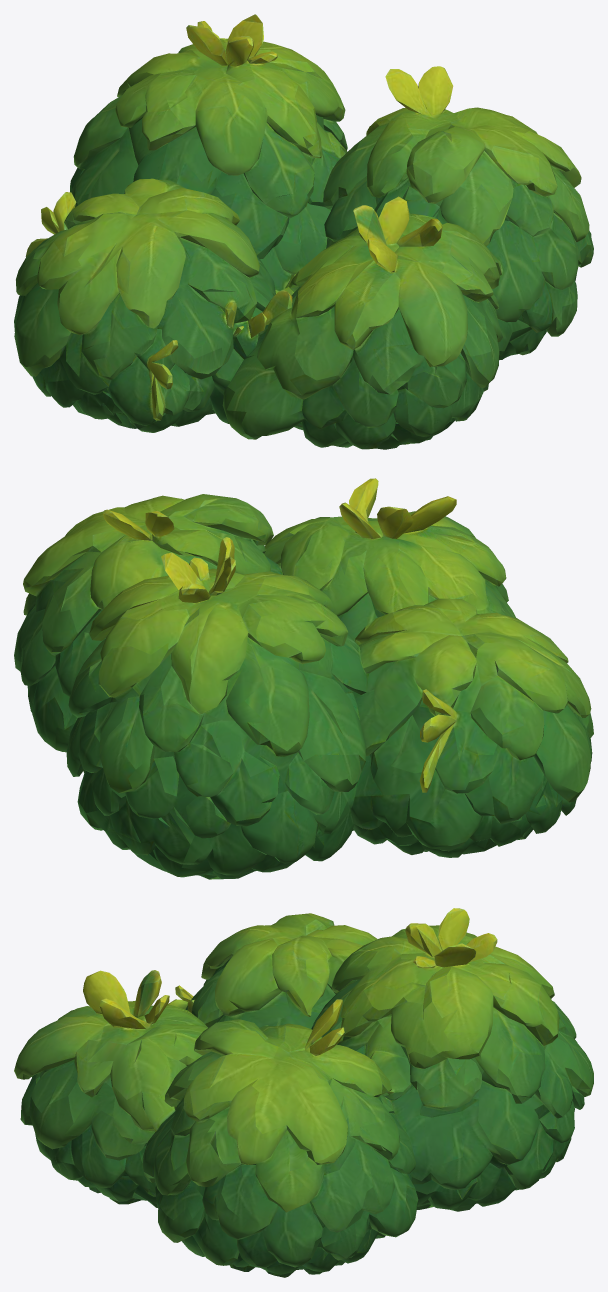
Rendered from verdant-glow.glb.
3 views of the same model, one above another, from view 1: azimuth 30°, elevation 25°; view 2: azimuth 150°, elevation 25°; view 3: azimuth 270°, elevation 25° (orthographic). The views are drawn at different scales.
Visible parts, largest first — view 1: output_unwrapped; view 2: output_unwrapped; view 3: output_unwrapped.
Boxes of the visible parts, bbox=[...] form: output_unwrapped: bbox=[14, 14, 593, 449]; output_unwrapped: bbox=[14, 478, 593, 879]; output_unwrapped: bbox=[14, 908, 593, 1277].
Size of the model in its own units: 1.9 by 0.9456 by 1.89.
1 material, 1 textured.
